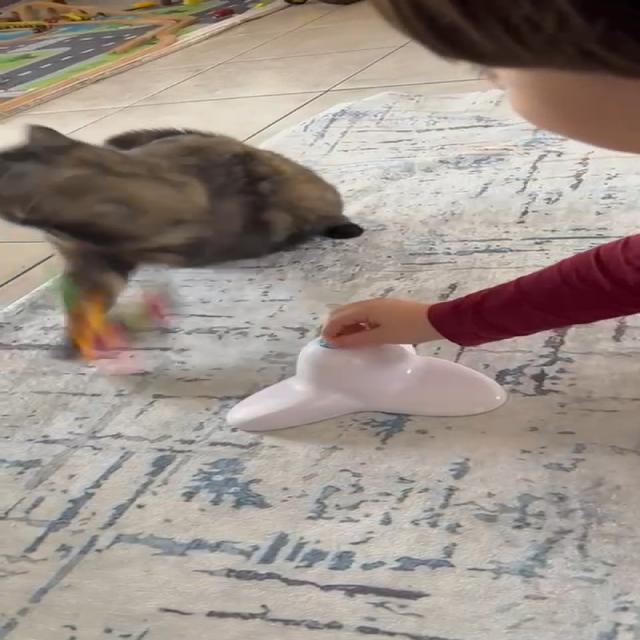authorized: (0, 122, 364, 361)
